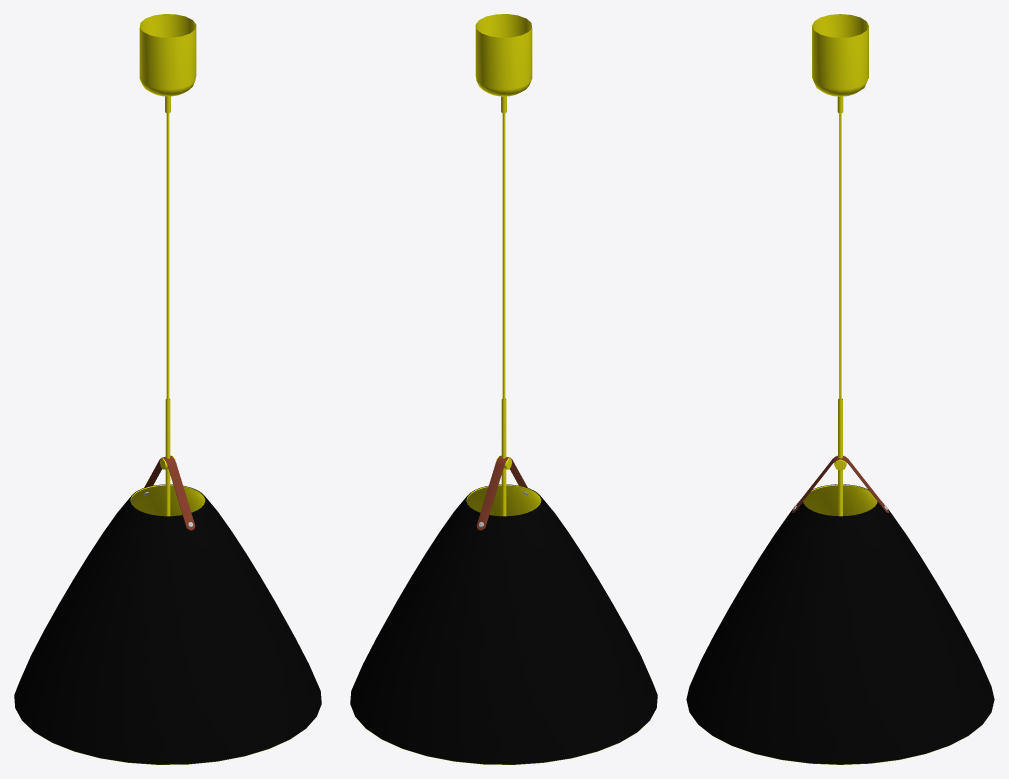
File: lamp.glb
3 views of the same model, side by side, from view 1: azimuth 30°, elevation 25°; view 2: azimuth 150°, elevation 25°; view 3: azimuth 270°, elevation 25° (orthographic).
Visible parts, largest first — view 1: Furniture_Lamp2_Yellow; view 2: Furniture_Lamp2_Yellow; view 3: Furniture_Lamp2_Yellow.
Boxes of the visible parts, box(x1,y1,x2,y2) form: Furniture_Lamp2_Yellow: box(14, 14, 321, 764); Furniture_Lamp2_Yellow: box(350, 14, 657, 764); Furniture_Lamp2_Yellow: box(686, 14, 994, 764).
Size of the model in its own units: 0.3644 by 0.8796 by 0.3644.
5 materials, 2 textured.
